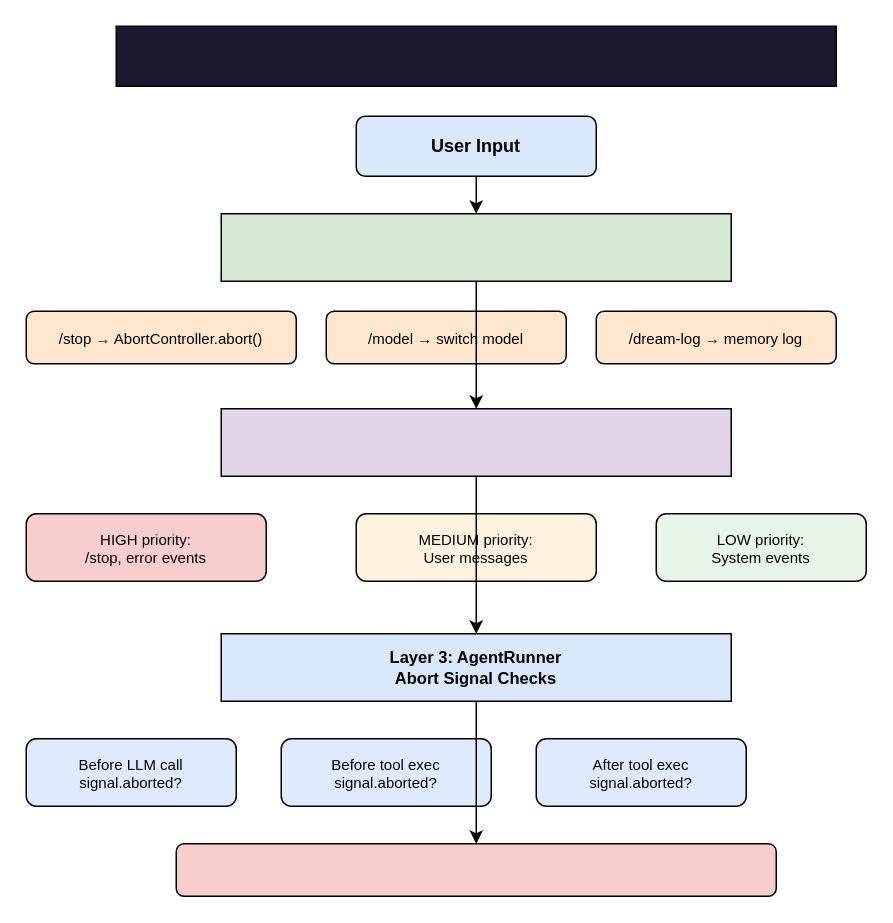
Some shapes in this 893 by 923 pixel diagram are drawn without their labels. Each missing label, with the centre of its shape:
"AbortError → immediate propagation through all layers" goes at (x=475, y=869).
"Layer 1: ChannelManager Slash Command Detection" goes at (x=475, y=246).
"Layer 2: MessageBus Priority Queue Dispatch" goes at (x=475, y=441).
"Three-Layer Command Routing — /stop 为何立刻生效" goes at (x=475, y=55).
